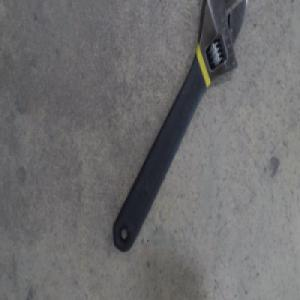AdjustableWrench: (113, 2, 245, 253)
